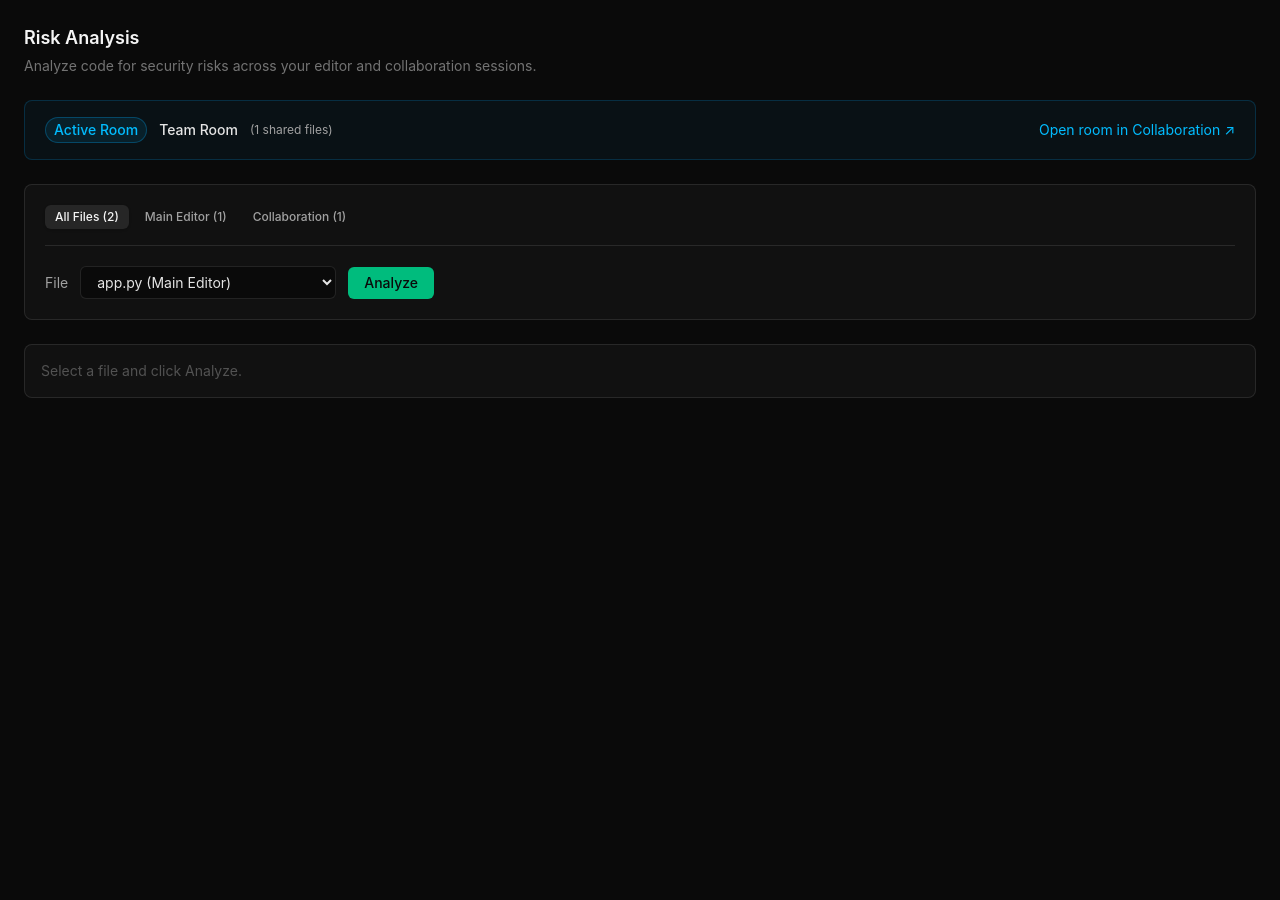
Test: RiskAnalysisPage - Main Editor and Collaboration files › fetches latest shared code and runs analysis when a collaboration file is selected
// Switch selection to the collaboration file
Select "network.py (Collaboration)" in the dropdown labelled "File". click: (208, 282)
box: [80, 266, 336, 299]
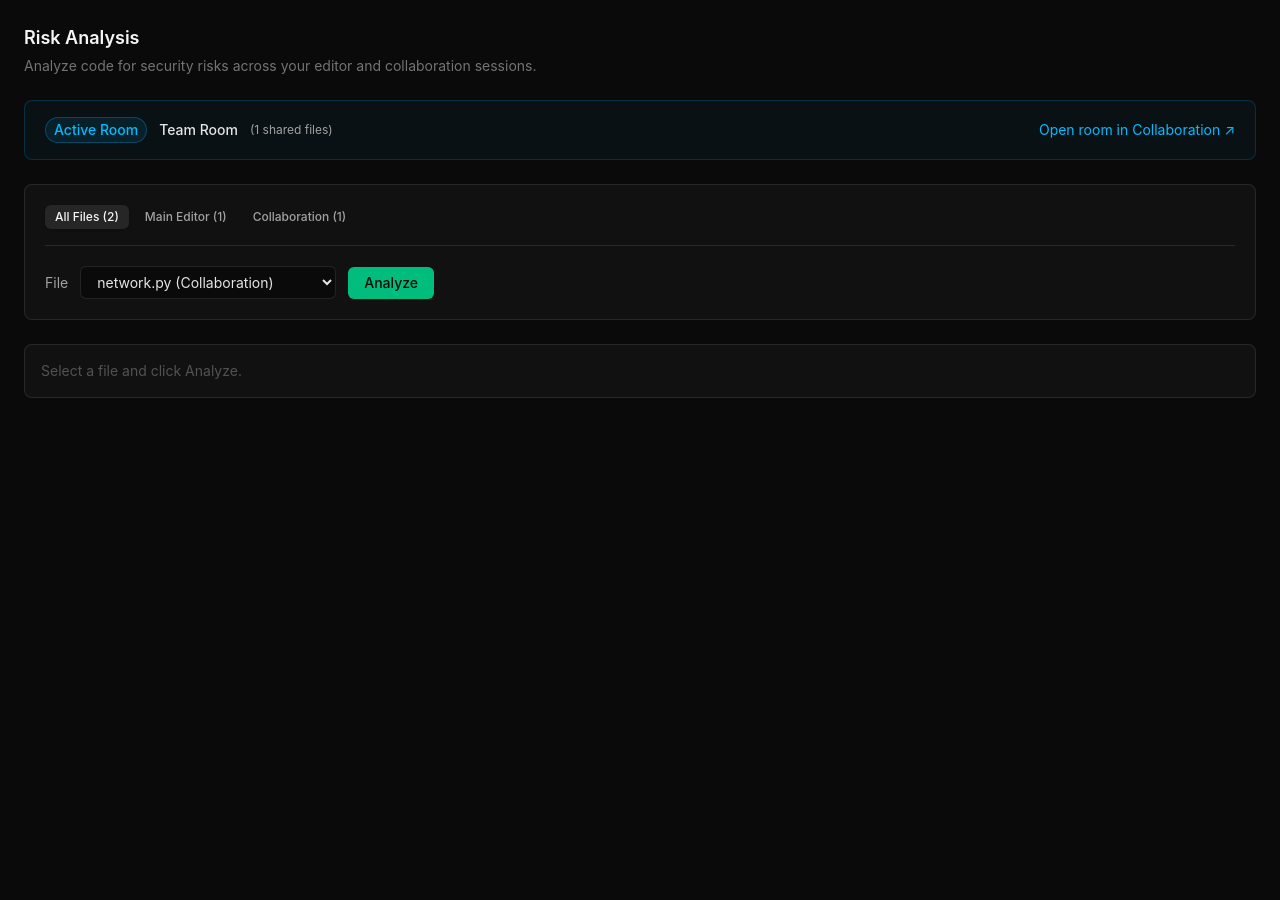
// Click Analyze
Click the button "Analyze". click: (391, 282)
box: [348, 266, 434, 298]
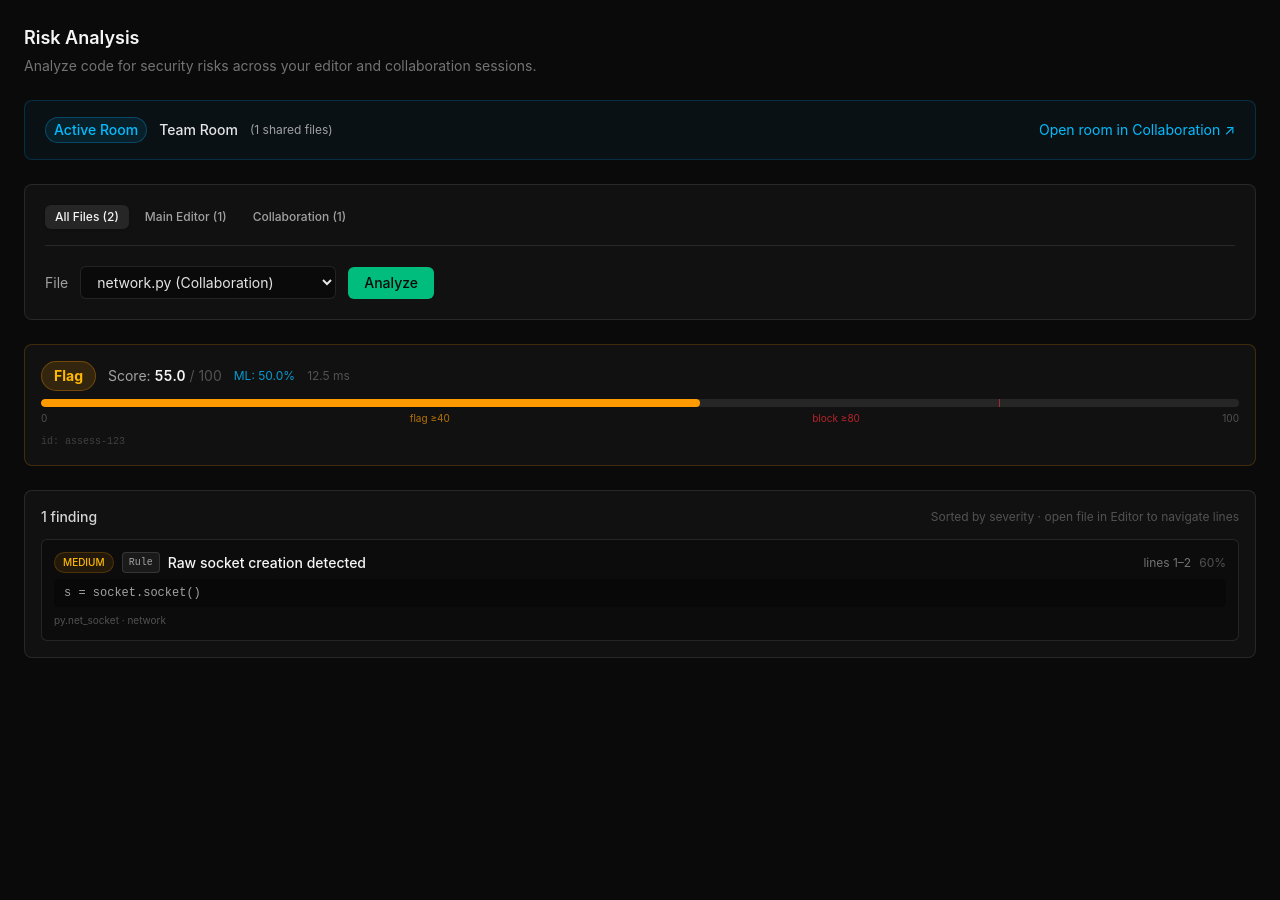
Check: the text "Flag" is shown, box [41, 361, 96, 391]
Check: the text "55.0" is shown, box [154, 367, 185, 384]
Check: the text "Raw socket creation detected" is shown, box [168, 554, 366, 570]
